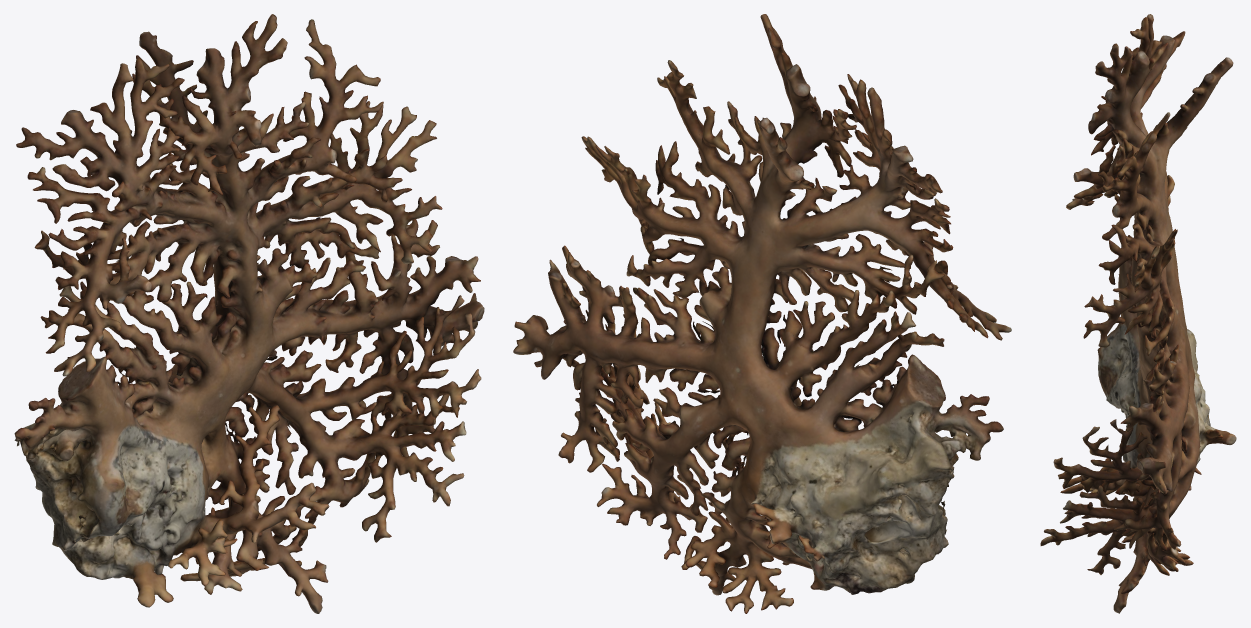
File: distichopora.glb
The picture shows the model from 3 angles, left to right: view 1: azimuth 30°, elevation 25°; view 2: azimuth 150°, elevation 25°; view 3: azimuth 270°, elevation 25°; orthographic projection. The views are drawn at different scales.
Parts seen in each view (by area): view 1: Object_4, Object_5; view 2: Object_4, Object_5; view 3: Object_4, Object_5.
Boxes of the visible parts, bbox=[...] form: Object_4: bbox=[14, 14, 484, 613]; Object_5: bbox=[210, 68, 481, 507]; Object_4: bbox=[513, 14, 1011, 613]; Object_5: bbox=[566, 78, 816, 525]; Object_4: bbox=[1040, 14, 1236, 613]; Object_5: bbox=[1044, 89, 1196, 571].
Bounding box in the file's own units: 0.1993 × 0.2404 × 0.0778.
1 material, 1 textured.
